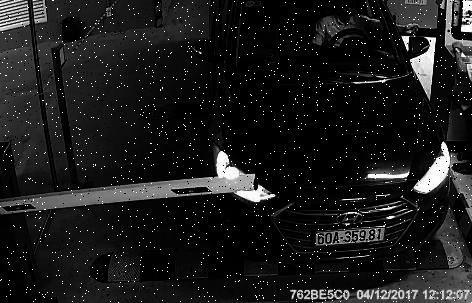License-plate: (312, 218, 396, 258)
